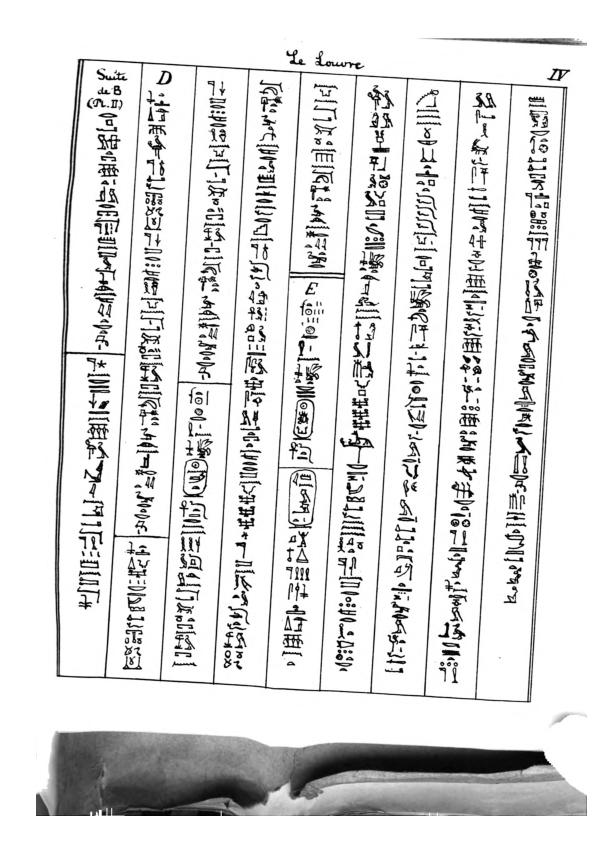circle: (286, 468, 318, 531), (180, 457, 209, 499), (292, 397, 316, 441)
